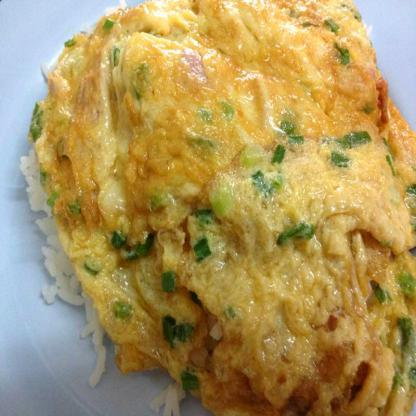Omelette: (18, 0, 415, 416)
